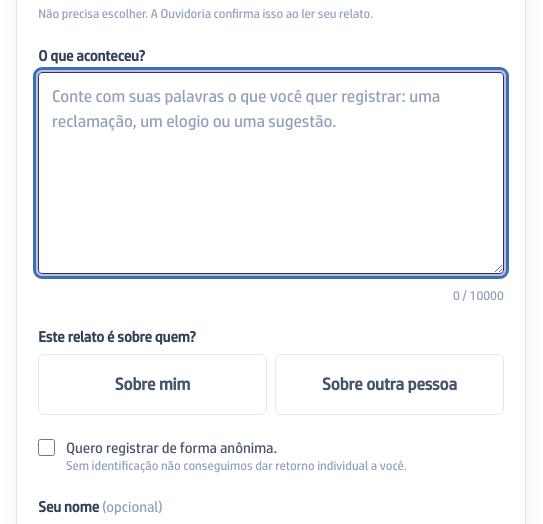
Scenario: a pergunta de quem é o relato (issue #666) › respondida a pergunta, o aviso some e o envio libera
The width and height of the screenshot is (543, 524).
(page scrolled)
Step 1. Replace the text in the text box labelled "O que aconteceu?" with "Minha mãe esperou duas horas na recepção." → (271, 173), box 38,72 -> 504,274
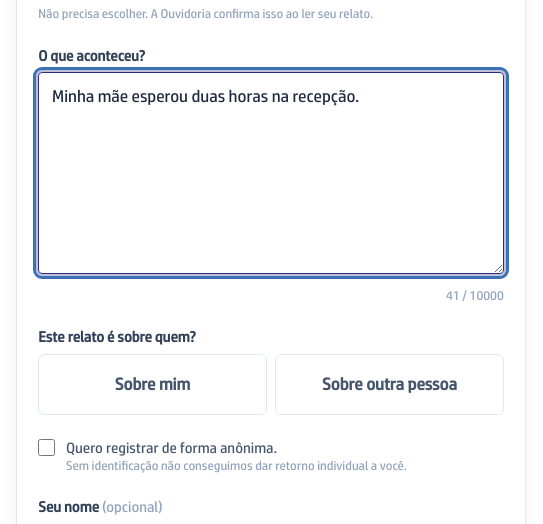
Step 2. Click the button "Sobre mim" → (153, 385), box 38,354 -> 267,415
(page scrolled)
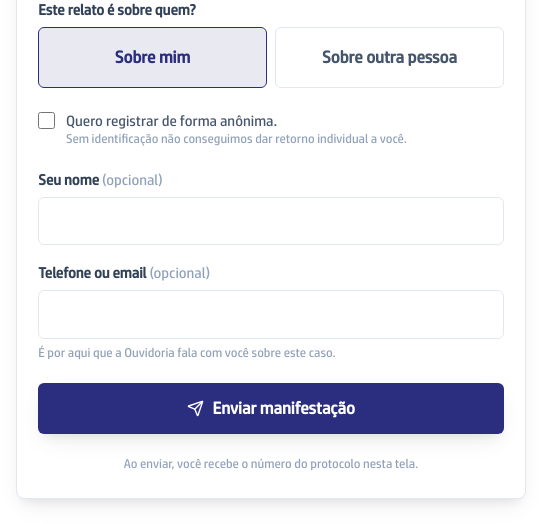
Result: the button "Enviar manifestação" is enabled at 38,383 -> 504,434
